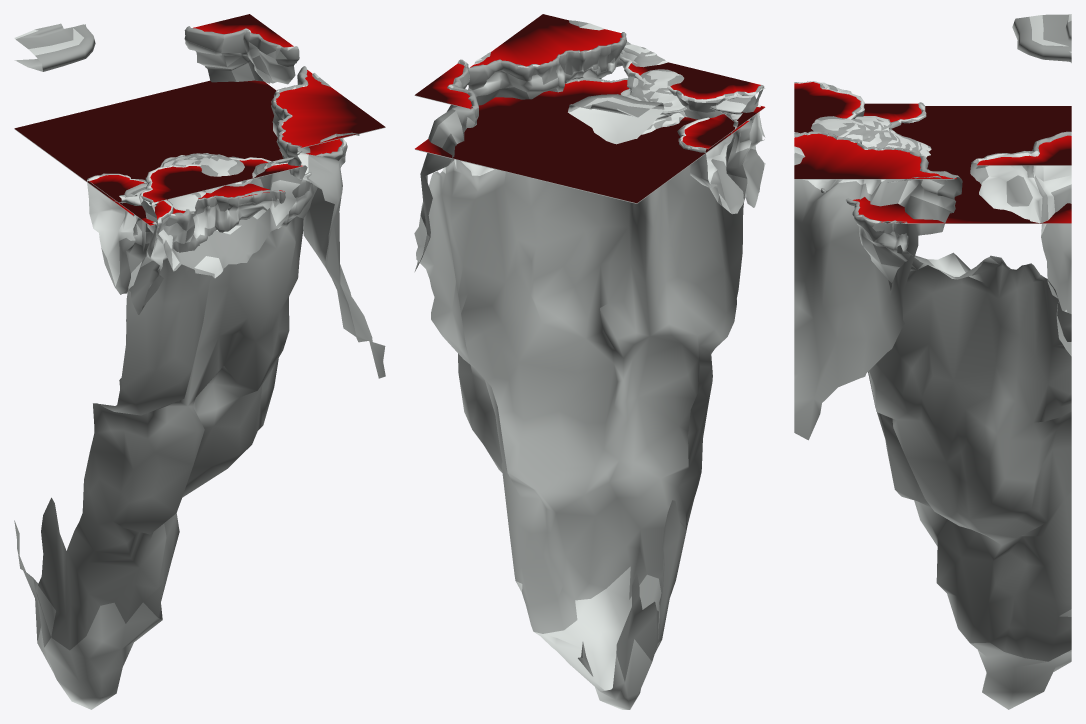
3 views of the same model, side by side, from view 1: azimuth 30°, elevation 25°; view 2: azimuth 150°, elevation 25°; view 3: azimuth 270°, elevation 25° (orthographic). The views are drawn at different scales.
Visible parts, largest first — view 1: G:\FFXIV-MapTools\exports\a2f1\bg\ex1\03_abr_a2\fld\a2f1\bgp (×10); view 2: G:\FFXIV-MapTools\exports\a2f1\bg\ex1\03_abr_a2\fld\a2f1\bgp (×11); view 3: G:\FFXIV-MapTools\exports\a2f1\bg\ex1\03_abr_a2\fld\a2f1\bgp (×10).
Part boxes in pixels (bbox=[...]): G:\FFXIV-MapTools\exports\a2f1\bg\ex1\03_abr_a2\fld\a2f1\bgp (×10): bbox=[14, 14, 385, 709]; G:\FFXIV-MapTools\exports\a2f1\bg\ex1\03_abr_a2\fld\a2f1\bgp (×11): bbox=[414, 14, 765, 709]; G:\FFXIV-MapTools\exports\a2f1\bg\ex1\03_abr_a2\fld\a2f1\bgp (×10): bbox=[794, 14, 1071, 709].
Size of the model in its own units: 128 by 345 by 128.
